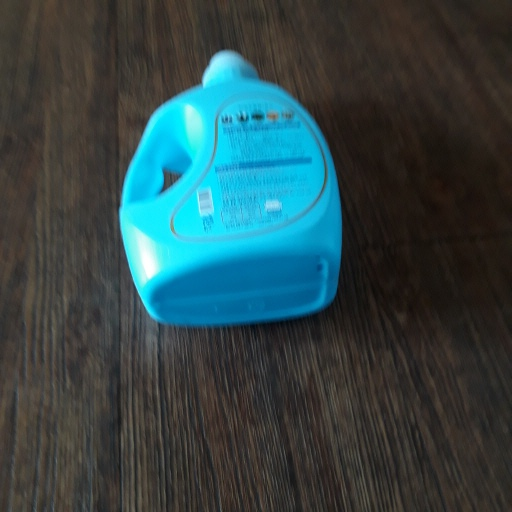Plastic_1: (115, 47, 346, 322)
